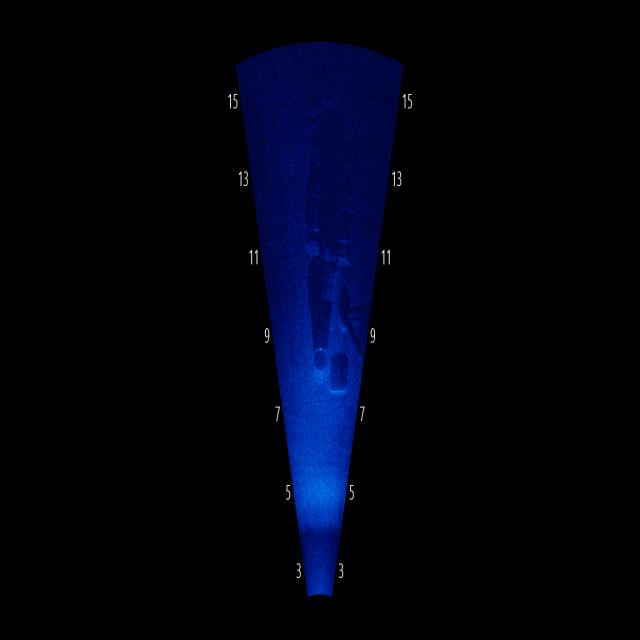circle: (310, 318, 331, 398)
square: (302, 109, 362, 272)
